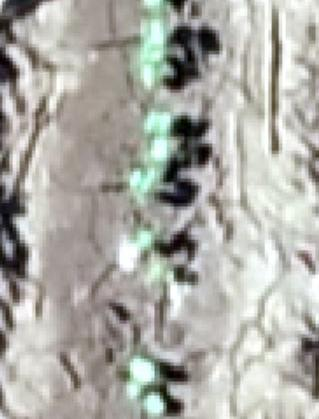cotton: (133, 358, 157, 383), (147, 111, 172, 134), (141, 18, 164, 40), (133, 169, 159, 188), (149, 140, 171, 162), (145, 393, 166, 414), (143, 63, 165, 82), (145, 41, 165, 61), (143, 1, 164, 19), (139, 234, 158, 251), (152, 266, 168, 282), (126, 381, 141, 397)
